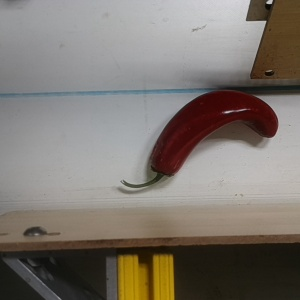Cut Point: (146, 153, 179, 183)
